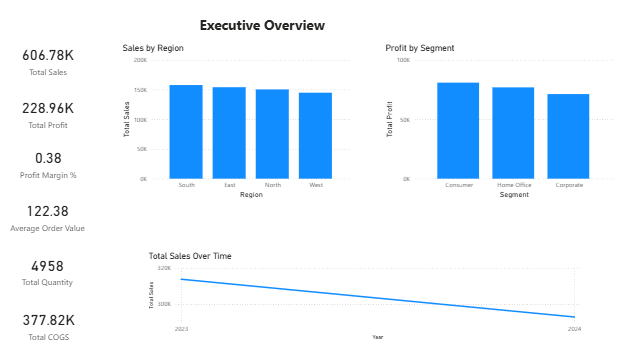

The dashboard page shown, as its layout file describes it:
{"tool":"powerbi","page":{"name":"Executive Overview","canvas":[1280,720],"ordinal":0},"visuals":[{"type":"card","fields":{"Values":["sales_finance_dataset.Total Sales"]},"box":[0,73.6,281,109.3],"z":0},{"type":"card","fields":{"Values":["sales_finance_dataset.Total Profit"]},"box":[0,182.9,281,98.1],"z":1},{"type":"card","fields":{"Values":["sales_finance_dataset.Total COGS"]},"box":[4.5,593.2,276.5,107],"z":2},{"type":"card","fields":{"Values":["sales_finance_dataset.Profit Margin %"]},"box":[2.2,281,278.7,100.3],"z":3},{"type":"card","fields":{"Values":["sales_finance_dataset.Total Quantity"]},"box":[0,488.4,278.7,104.8],"z":4},{"type":"card","fields":{"Values":["sales_finance_dataset.Average Order Value"]},"box":[0,381.3,278.7,107],"z":5},{"type":"textbox","box":[431.8,38.3,454.8,56.2],"z":6},{"type":"lineChart","title":"Total Sales Over Time","fields":{"Category":["sales_finance_dataset.OrderDate.Variation.Date Hierarchy.Year","sales_finance_dataset.OrderDate.Variation.Date Hierarchy.Quarter","sales_finance_dataset.OrderDate.Variation.Date Hierarchy.Month","sales_finance_dataset.OrderDate.Variation.Date Hierarchy.Day"],"Y":["sales_finance_dataset.Total Sales"]},"box":[332.3,504,854.1,178.4],"z":7},{"type":"clusteredColumnChart","title":"Sales by Region","fields":{"Category":["sales_finance_dataset.Region"],"Y":["sales_finance_dataset.Total Sales"]},"box":[281,98.1,454.9,307.7],"z":8},{"type":"clusteredColumnChart","title":"Profit by Segment","fields":{"Category":["sales_finance_dataset.Segment"],"Y":["sales_finance_dataset.Total Profit"]},"box":[793.9,98.1,454.9,307.7],"z":9}]}

Visuals, with their boxes in screenshot pixels (x1, y1, x2, y2), scaled from the page's 1280x720 canvas onto the 620x349 screenshot:
card - sales_finance_dataset.Total Sales: 0 36 136 89
card - sales_finance_dataset.Total Profit: 0 89 136 136
card - sales_finance_dataset.Total COGS: 2 288 136 339
card - sales_finance_dataset.Profit Margin %: 1 136 136 185
card - sales_finance_dataset.Total Quantity: 0 237 135 288
card - sales_finance_dataset.Average Order Value: 0 185 135 237
textbox: 209 19 429 46
"Total Sales Over Time" lineChart: 161 244 575 331
"Sales by Region" clusteredColumnChart: 136 48 356 197
"Profit by Segment" clusteredColumnChart: 385 48 605 197
